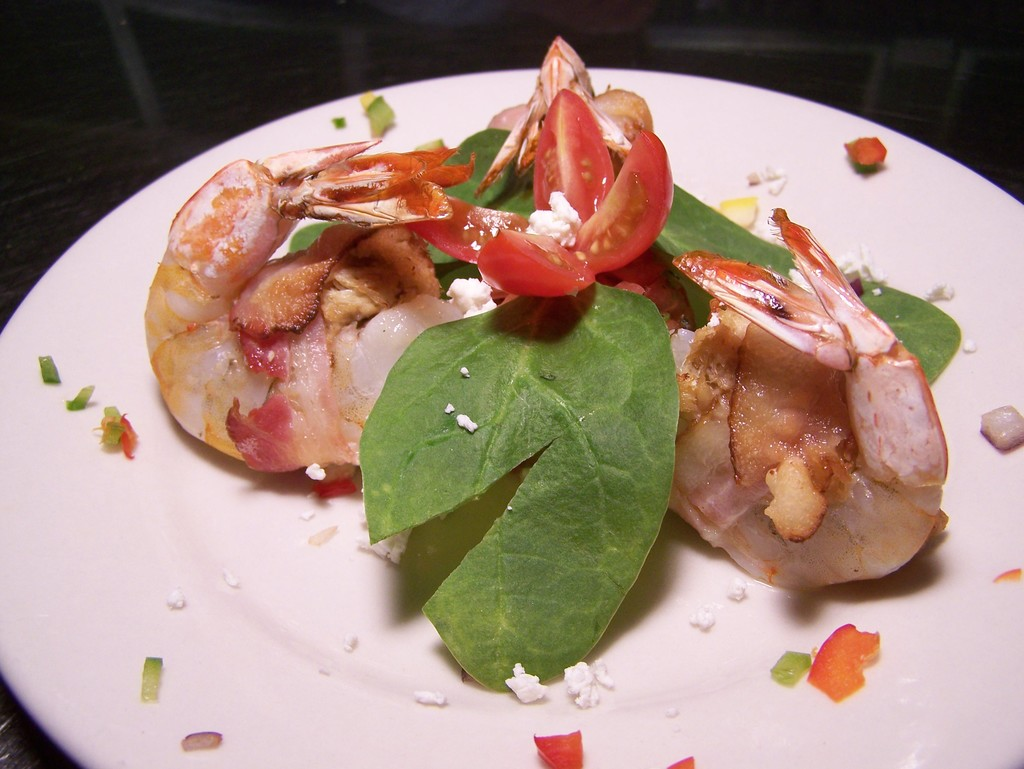salad: (138, 37, 965, 705)
